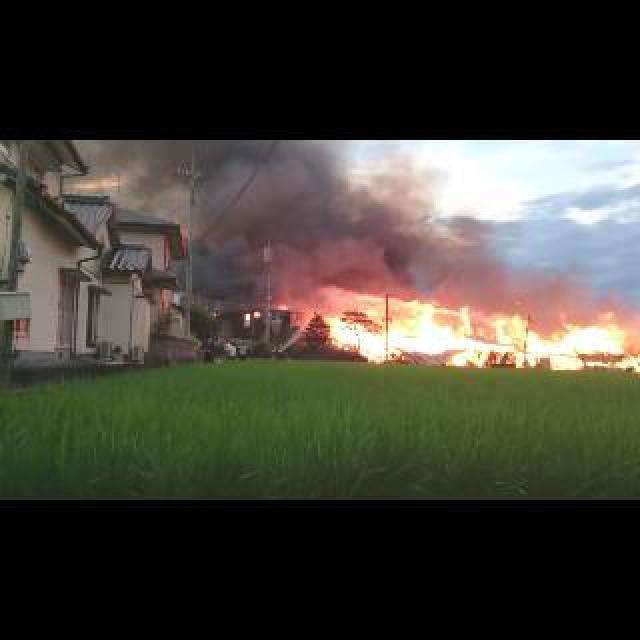Fire: (330, 304, 638, 376)
Smoke: (147, 140, 599, 300)
